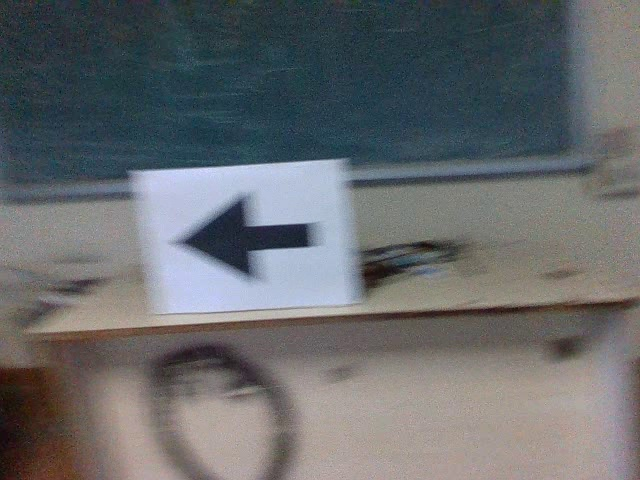Left: (167, 191, 321, 283)
